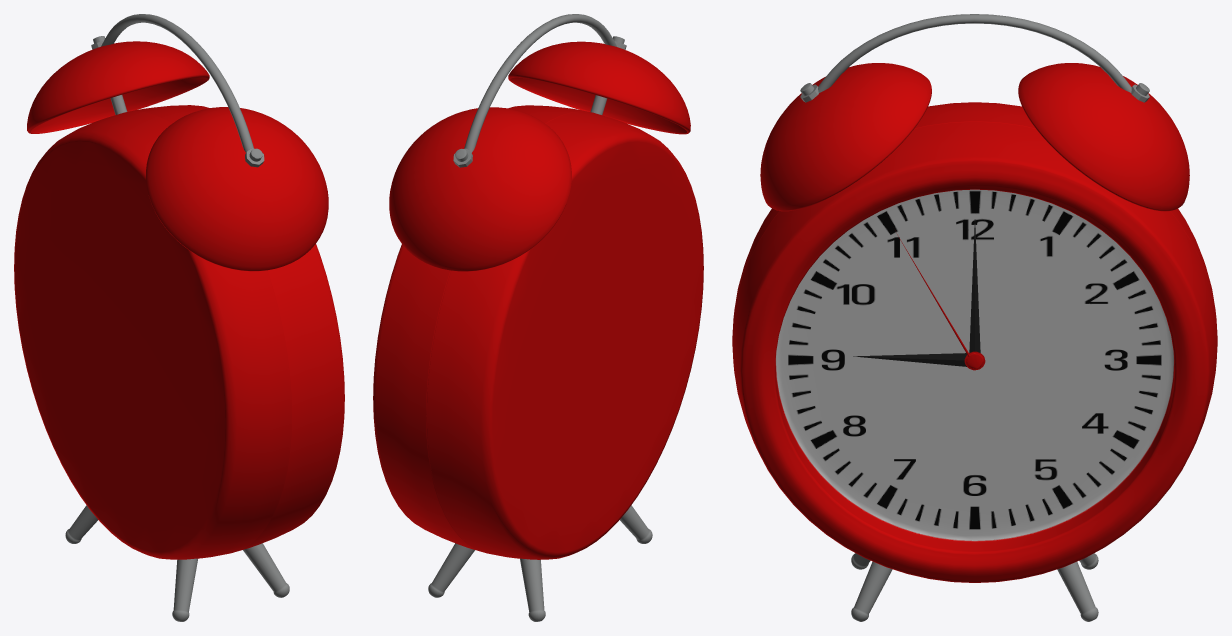
Rendered from alarm_clock_fbx_LOD1.fbx.
3 views of the same model, side by side, from view 1: azimuth 30°, elevation 25°; view 2: azimuth 150°, elevation 25°; view 3: azimuth 270°, elevation 25° (orthographic). The views are drawn at different scales.
Parts seen in each view (by area): view 1: alarm_clock; view 2: alarm_clock; view 3: alarm_clock.
Boxes of the visible parts, x1,y1,x2,y2 form: alarm_clock: [14, 14, 344, 621]; alarm_clock: [373, 14, 703, 621]; alarm_clock: [732, 14, 1217, 621].
Size of the model in its own units: 191 by 600 by 455.
2 materials, 2 textured.
